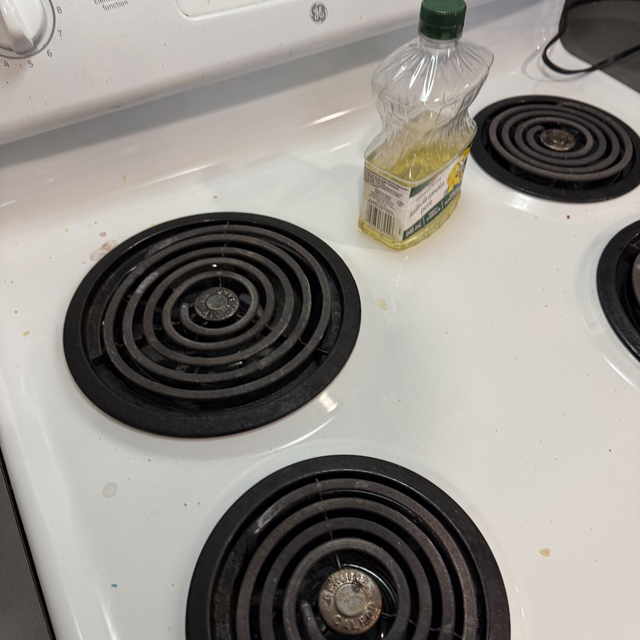Canola Oil: (347, 0, 489, 249)
Stove: (0, 0, 640, 640)
